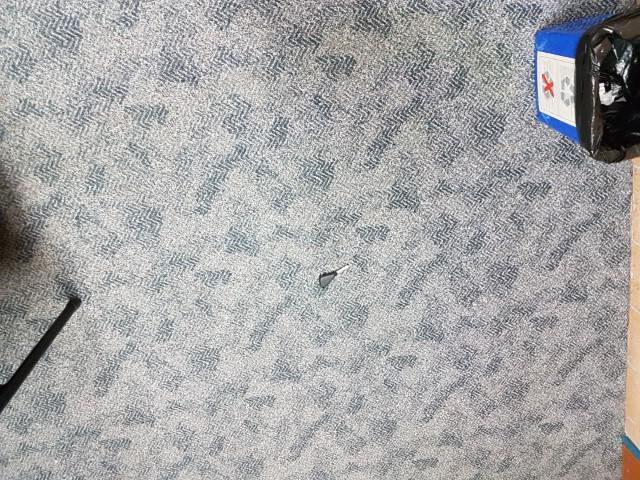key: (316, 261, 353, 290)
